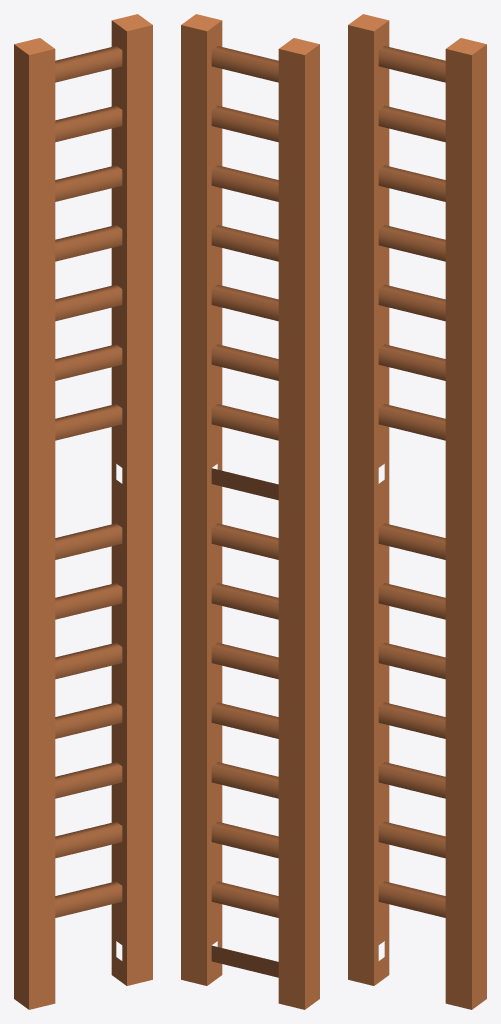
Rendered from knezi_ladderOnly.glb.
3 views of the same model, side by side, from view 1: azimuth 30°, elevation 25°; view 2: azimuth 150°, elevation 25°; view 3: azimuth 330°, elevation 25° (orthographic).
Parts seen in each view (by area): view 1: ladderLong; view 2: ladderLong; view 3: ladderLong.
Part boxes in pixels (x1,y1,x2,y2): ladderLong: (14, 14, 152, 1009); ladderLong: (181, 14, 319, 1009); ladderLong: (348, 14, 486, 1009).
Bounding box in the file's own units: 0.38 × 2.8 × 0.08.
